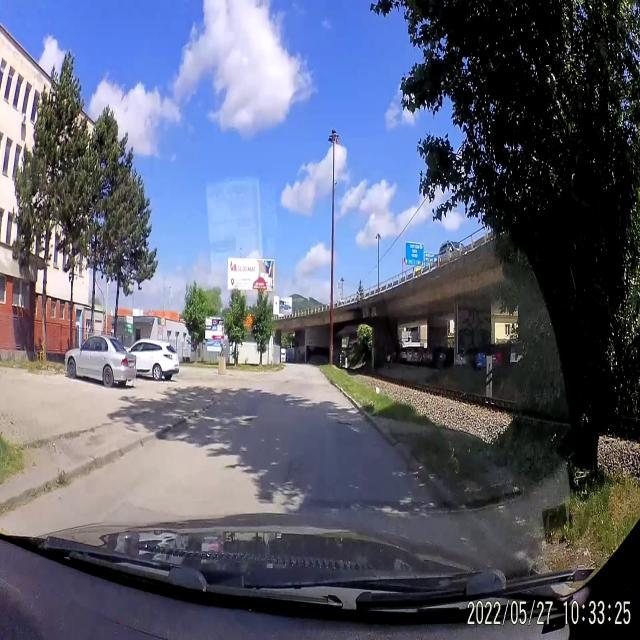Pothole: (338, 415, 354, 432), (240, 414, 254, 424)
